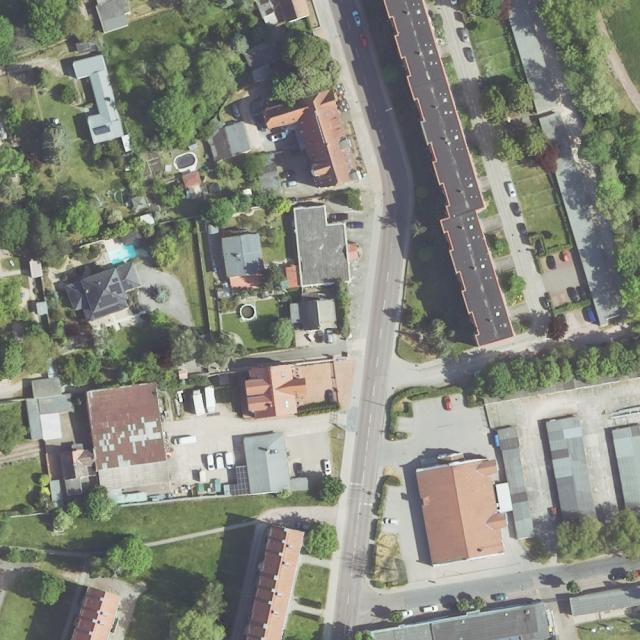PV: (231, 465, 249, 496), (94, 305, 120, 319), (98, 293, 118, 306), (108, 276, 122, 294), (122, 280, 133, 289), (69, 291, 76, 304)
